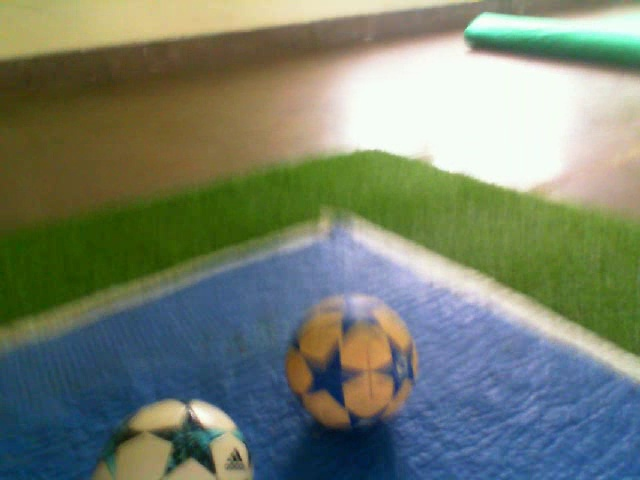ball: (280, 287, 422, 438), (83, 392, 258, 480)
